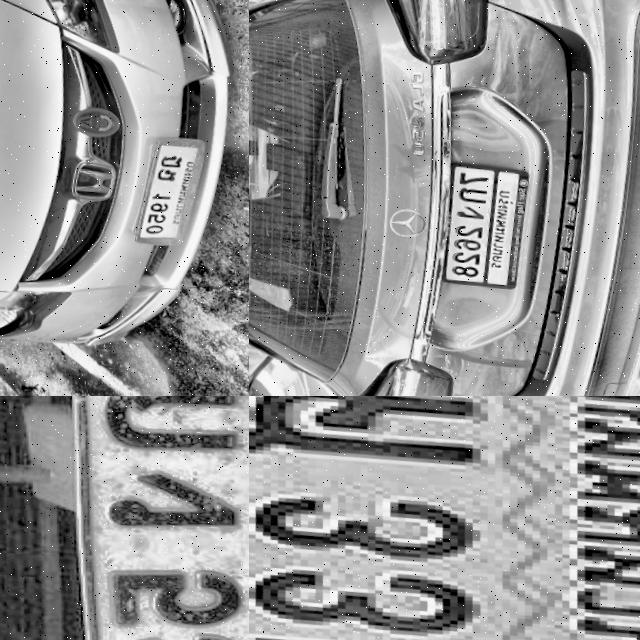license-plate: (249, 396, 640, 640), (0, 396, 249, 640), (423, 158, 538, 295), (111, 132, 209, 256)
